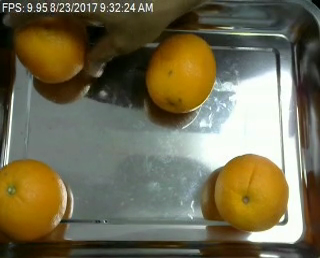Orange: (212, 151, 288, 232), (145, 34, 216, 112), (1, 159, 68, 239)
